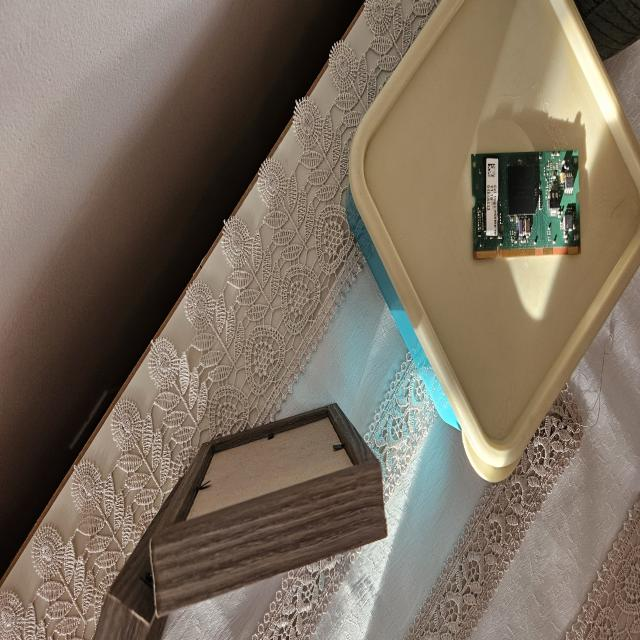som: (467, 138, 588, 268)
